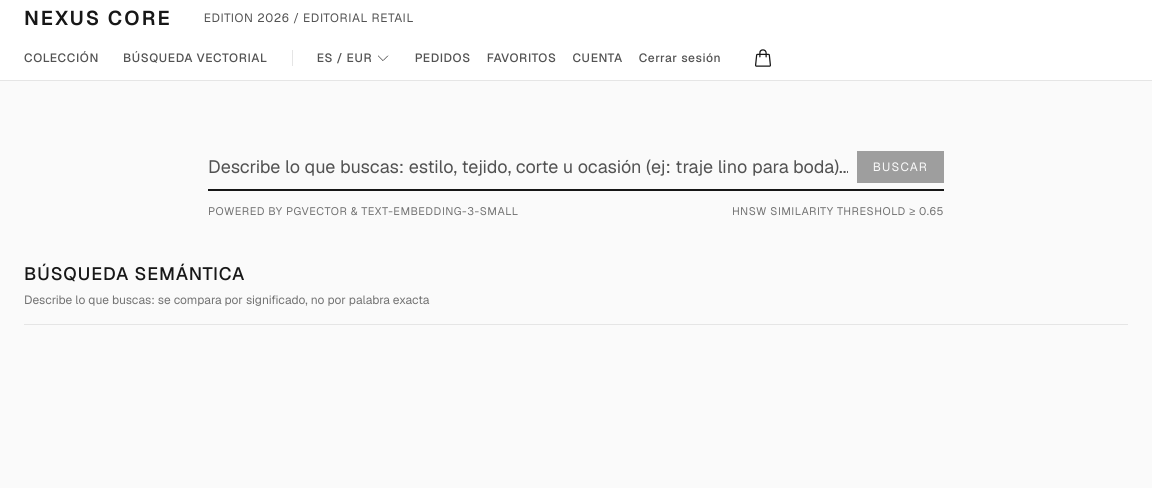
Test: SearchPage (búsqueda semántica) › R6 — un texto que no casa con nada muestra el estado vacío con la consulta
Type "gafas de buceo" into the field with placeholder "Describe lo que buscas" at (576, 167), box [208, 153, 944, 181]
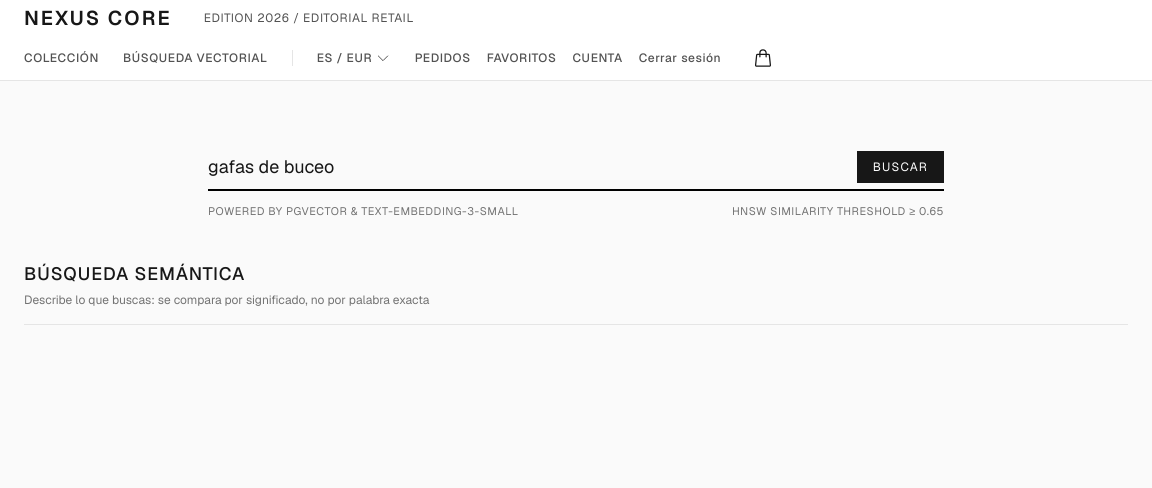
Click the button "Buscar" at (900, 167), box [857, 151, 944, 183]
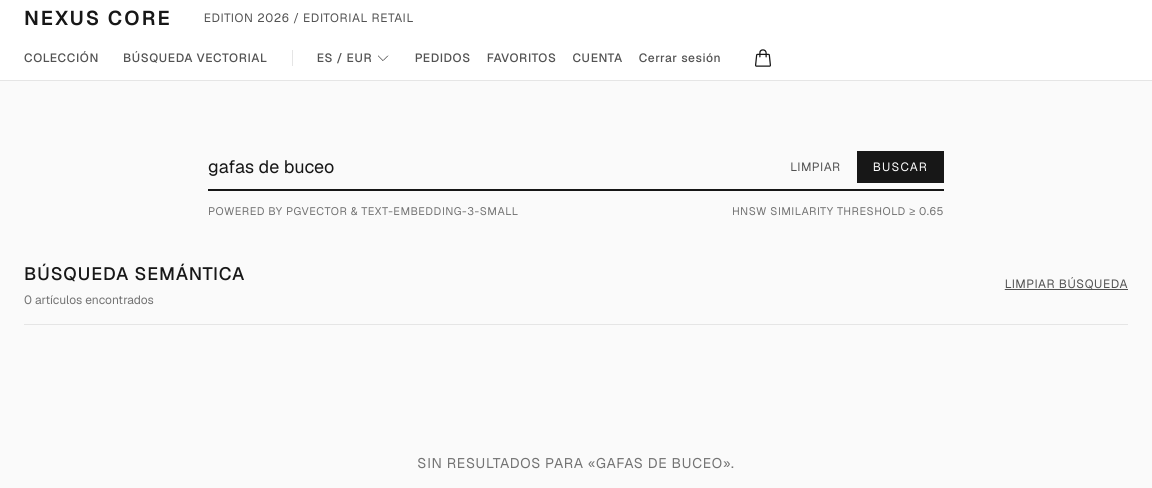
Now the text "Sin resultados para «gafas de buceo»." is shown, box [417, 454, 735, 472]
